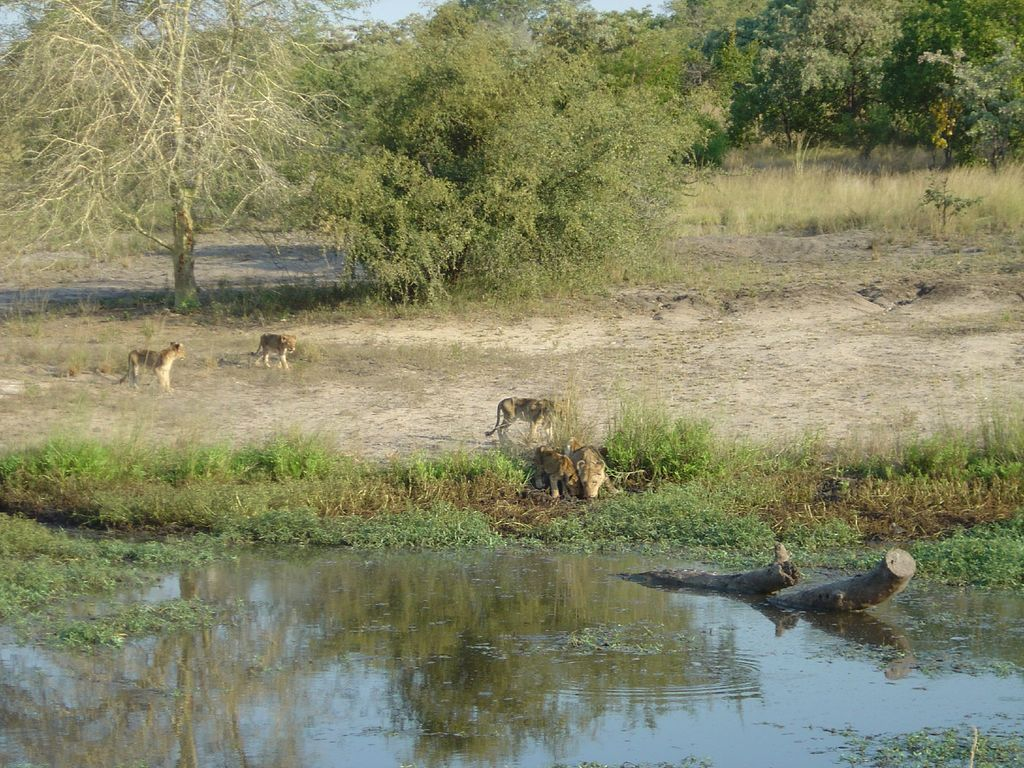Animal: (532, 444, 646, 505), (479, 388, 558, 449), (106, 337, 182, 388), (253, 332, 294, 368)
